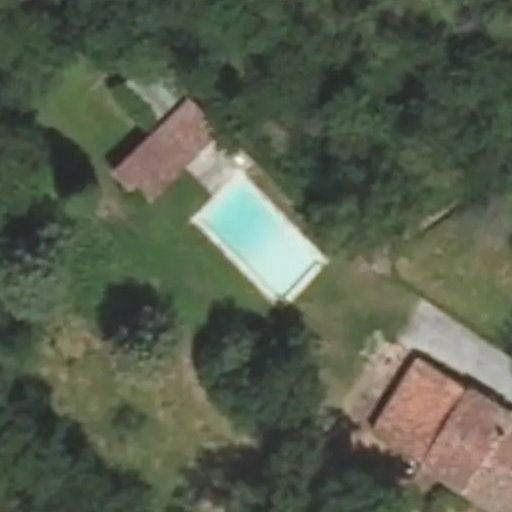pool: (194, 222, 317, 261)
